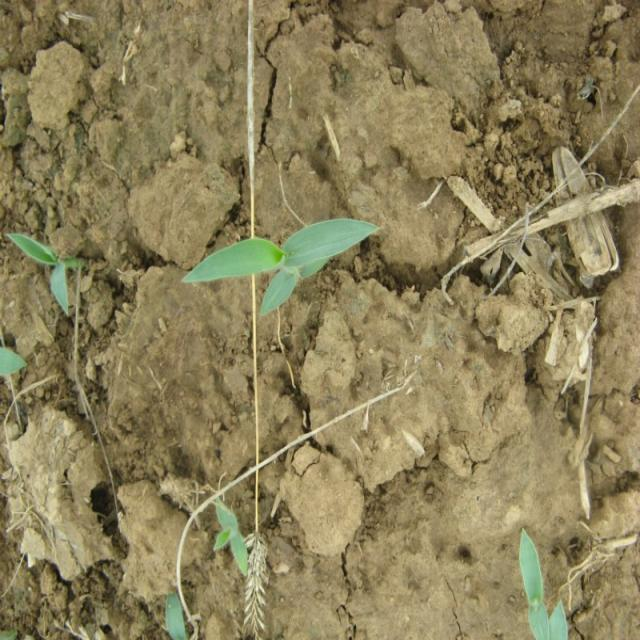bg: (183, 212, 390, 319)
